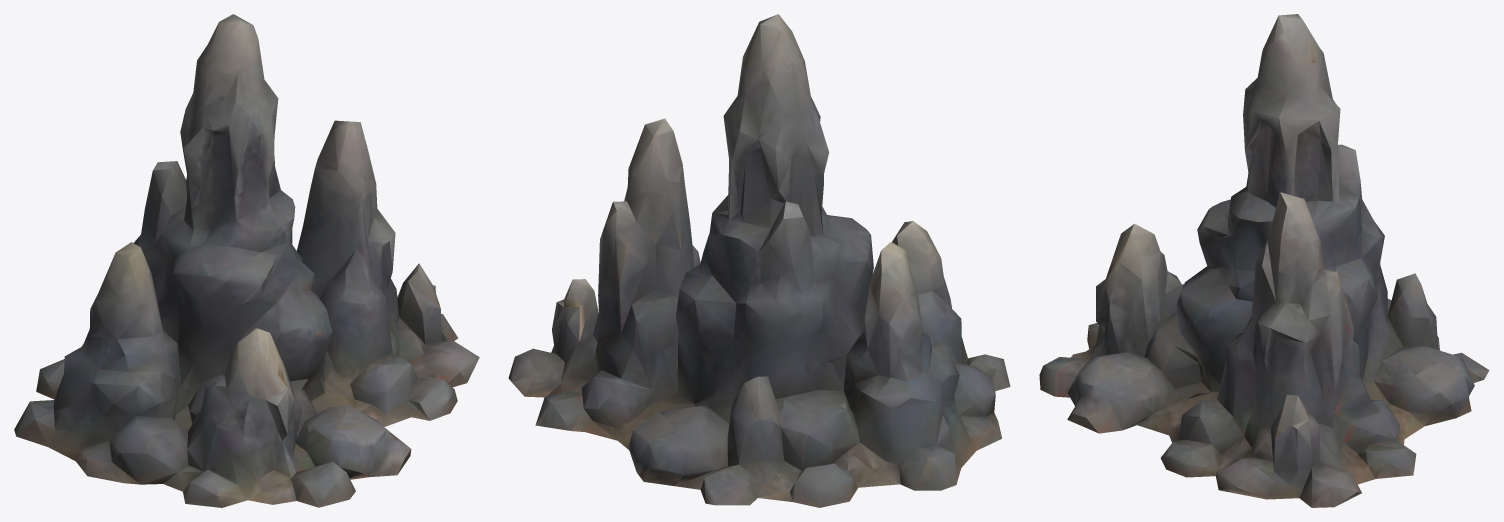
Rendered from estalagmitas_b_1500.glb.
The picture shows the model from 3 angles, left to right: view 1: azimuth 30°, elevation 25°; view 2: azimuth 150°, elevation 25°; view 3: azimuth 270°, elevation 25°; orthographic projection. The views are drawn at different scales.
Visible parts, largest first — view 1: estalagmitas_b_malla; view 2: estalagmitas_b_malla; view 3: estalagmitas_b_malla.
Boxes of the visible parts, <box> form: estalagmitas_b_malla: <box>14,14,479,507</box>; estalagmitas_b_malla: <box>508,14,1010,507</box>; estalagmitas_b_malla: <box>1039,14,1489,507</box>.
Bounding box in the file's own units: 0.4119 × 0.352 × 0.3771.
Materials: 1 (1 with a texture image).
